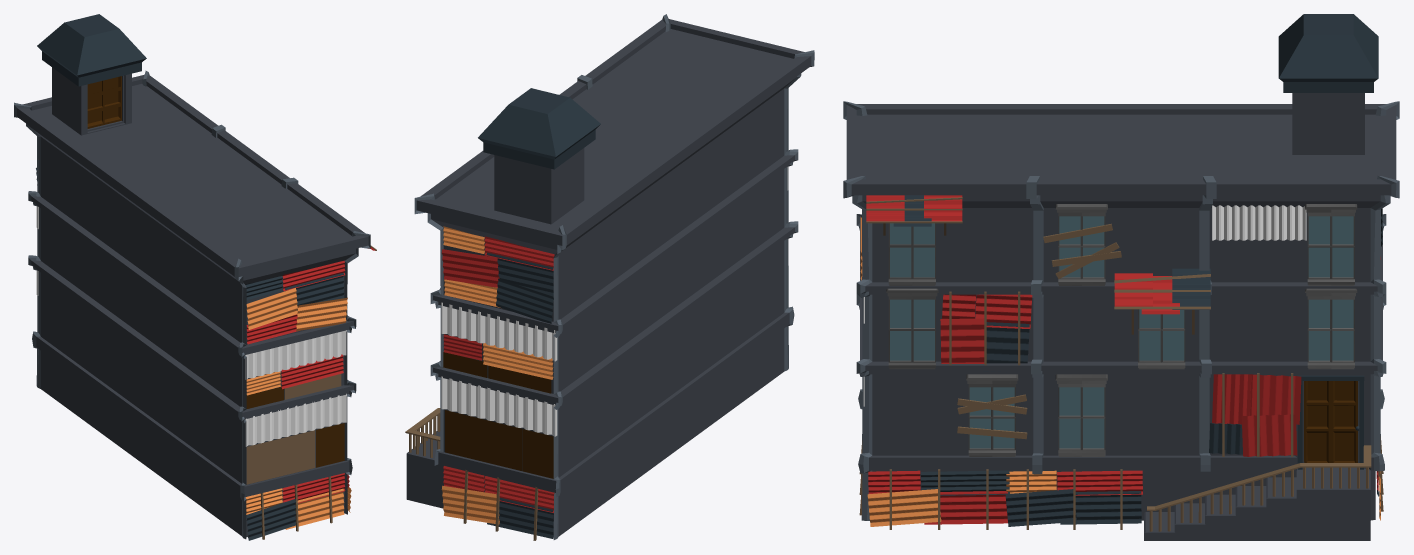
Rendered from MainSlumsApartment.fbx_AltColorMainSlum.fbx.
3 renders of one model, left to right at view 1: azimuth 30°, elevation 25°; view 2: azimuth 150°, elevation 25°; view 3: azimuth 270°, elevation 25°, orthographic. The views are drawn at different scales.
Parts seen in each view (by area): view 1: Cube.001; view 2: Cube.001; view 3: Cube.001.
Boxes of the visible parts, bbox=[...] form: Cube.001: bbox=[14, 14, 376, 540]; Cube.001: bbox=[405, 14, 814, 540]; Cube.001: bbox=[843, 14, 1399, 540].
Bounding box in the file's own units: 4598 × 1867 × 4191.
